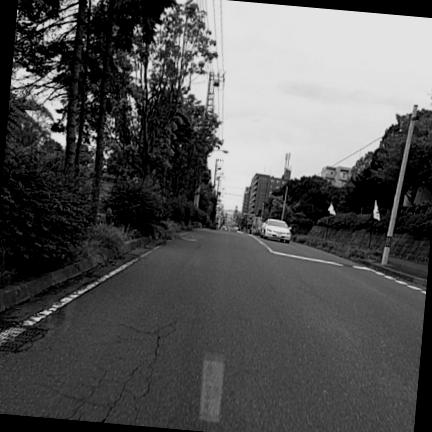Road: (0, 231, 425, 431)
